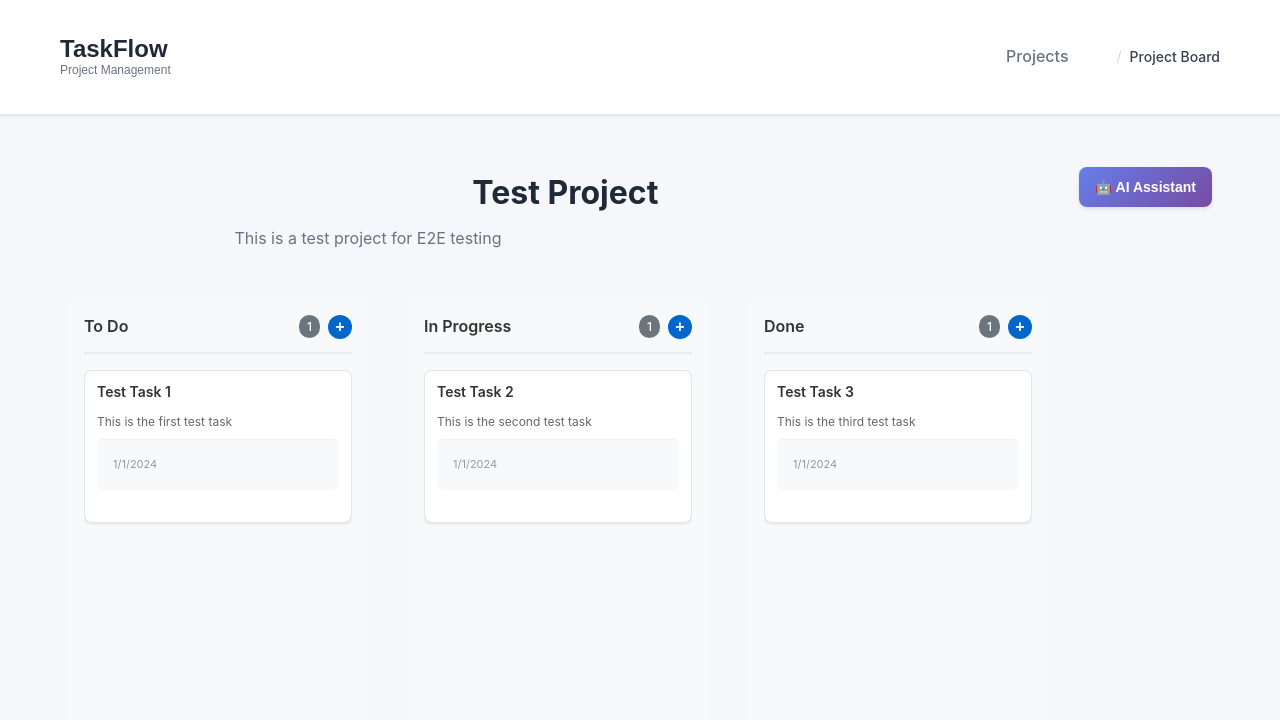
Test: AI Assistant › AI Assistant Interface › should open AI Assistant modal when button is clicked
Click the button "🤖 AI Assistant": (1146, 187) [1079,167,1212,207]
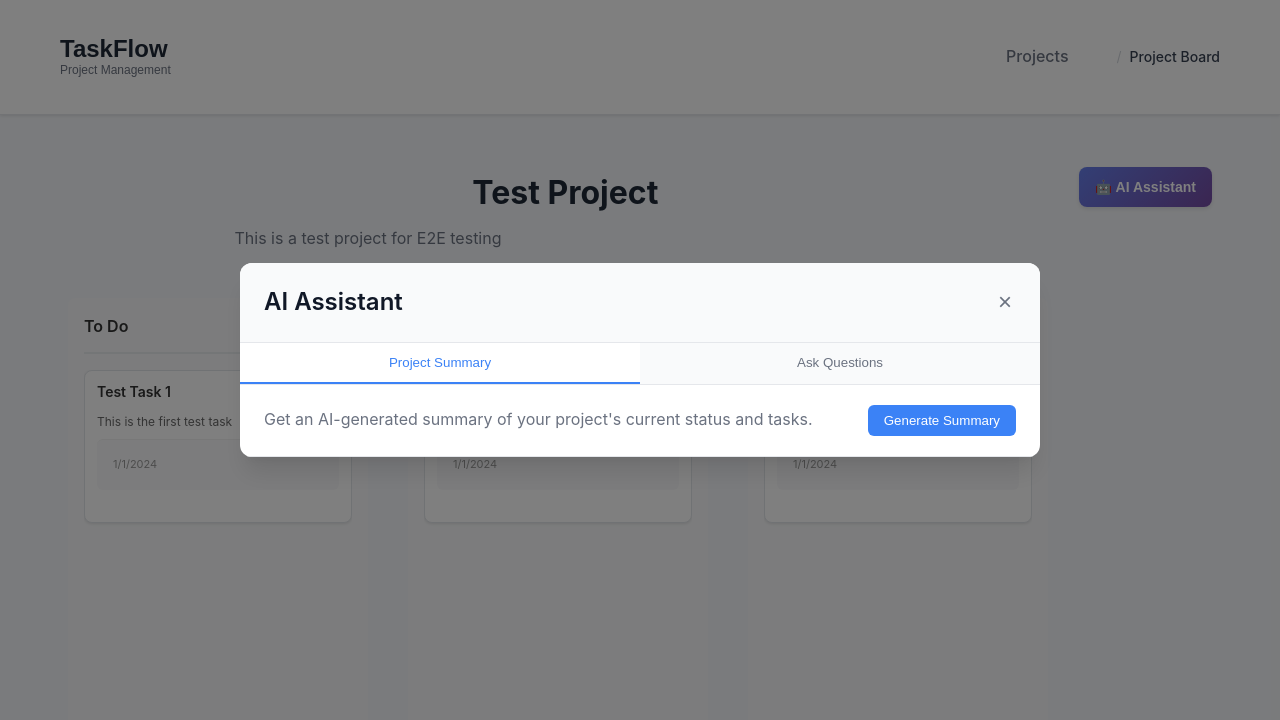
expect the element with class "ai-assistant-modal" is shown: met, box [240,263,1040,456]
